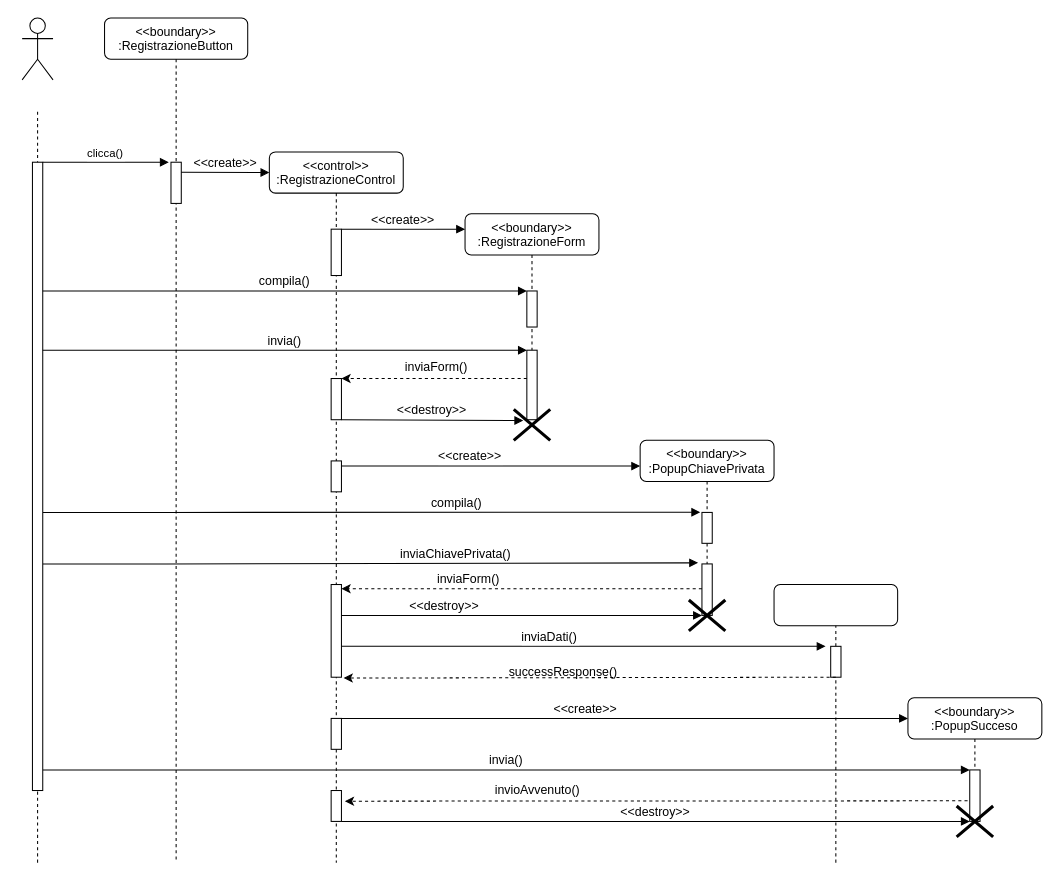
Some shapes in this 1060 by 882 pixel diagram are drawn without their labels. Here are the shapes that lost their labels. From the top down, the centre of each, then its label:
At point 37,48: ":Utente".
At point 835,604: "<<entity>> :Blockchain".
